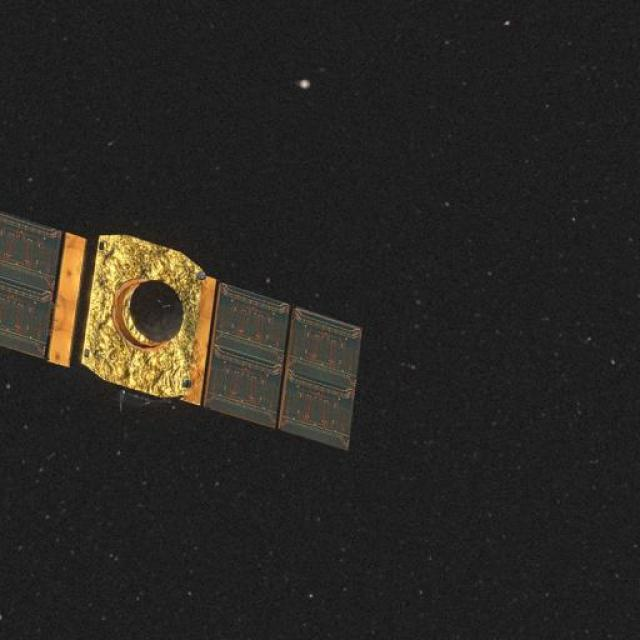soho: (1, 207, 333, 451)
